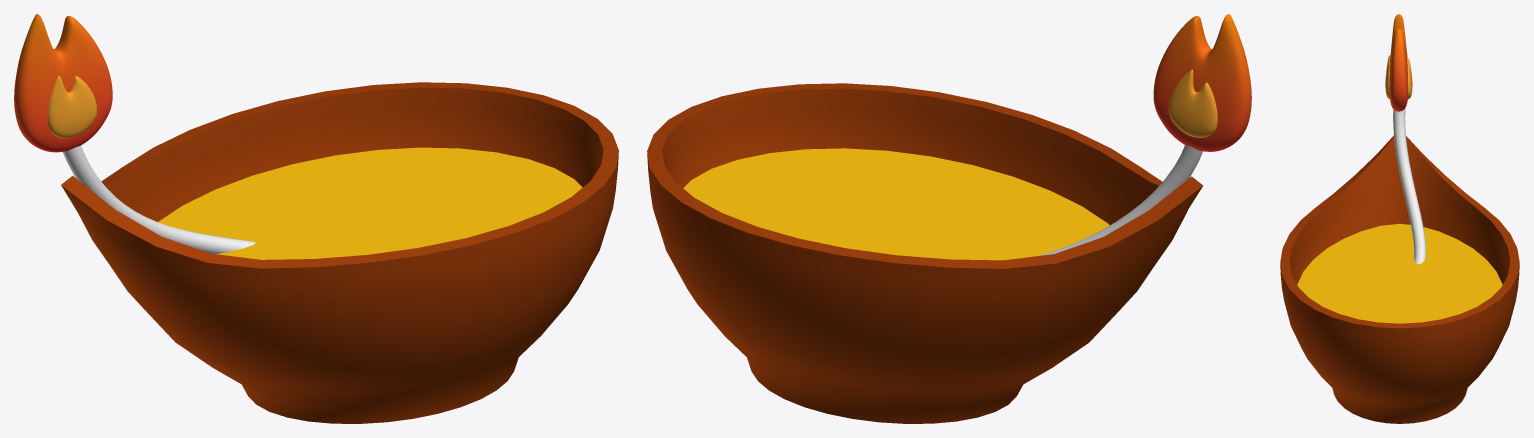
The model's file is diya_lamp.gltf.
3 views of the same model, side by side, from view 1: azimuth 30°, elevation 25°; view 2: azimuth 150°, elevation 25°; view 3: azimuth 270°, elevation 25° (orthographic). The views are drawn at different scales.
Parts seen in each view (by area): view 1: Sphere.531; view 2: Sphere.531; view 3: Sphere.531.
Part boxes in pixels (x1,y1,x2,y2): Sphere.531: (14, 14, 618, 423); Sphere.531: (647, 14, 1251, 423); Sphere.531: (1280, 14, 1519, 423).
Bounding box in the file's own units: 2.3 × 1.67 × 1.34.
1 material, 1 textured.
